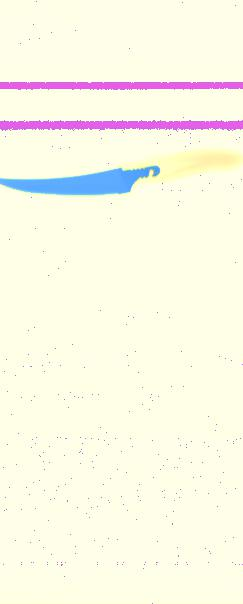Knife: (1, 149, 242, 197)
